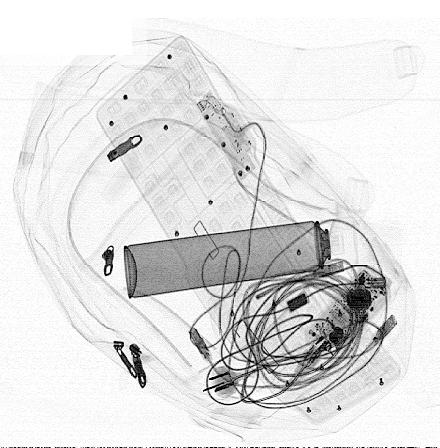Sprayer: (123, 215, 359, 300)
